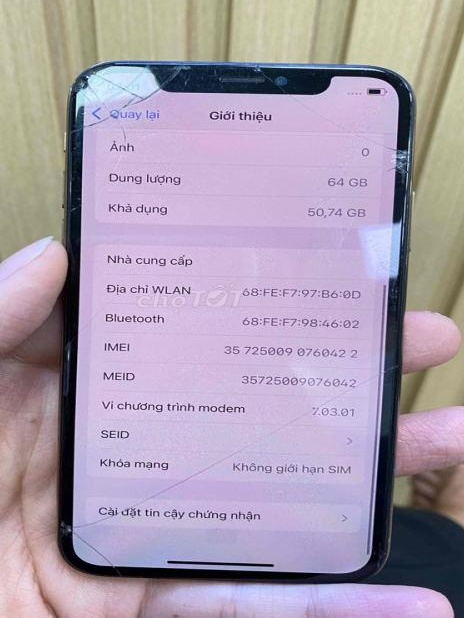physical_damage: (57, 54, 411, 579)
